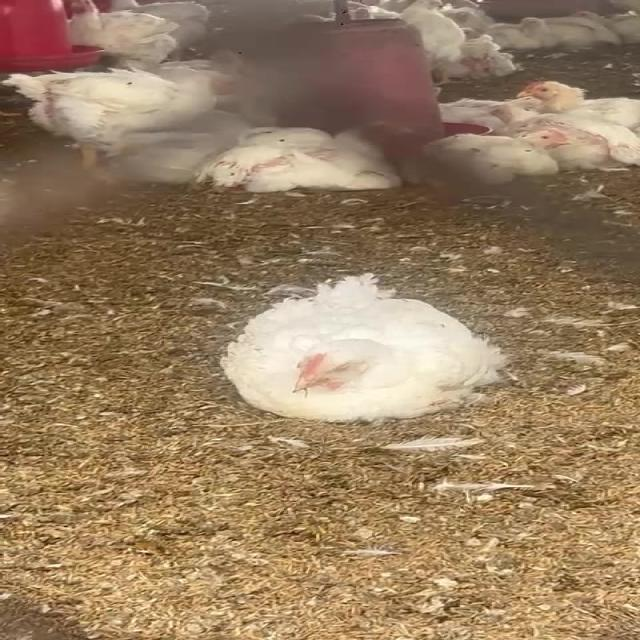AbNormal: (222, 292, 478, 420), (208, 118, 410, 196), (437, 125, 582, 183), (516, 76, 640, 127)
Normal: (8, 67, 252, 149)
